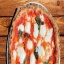basil: (33, 14, 47, 31), (30, 46, 41, 62), (18, 28, 32, 40)
pizza: (8, 2, 61, 64)
